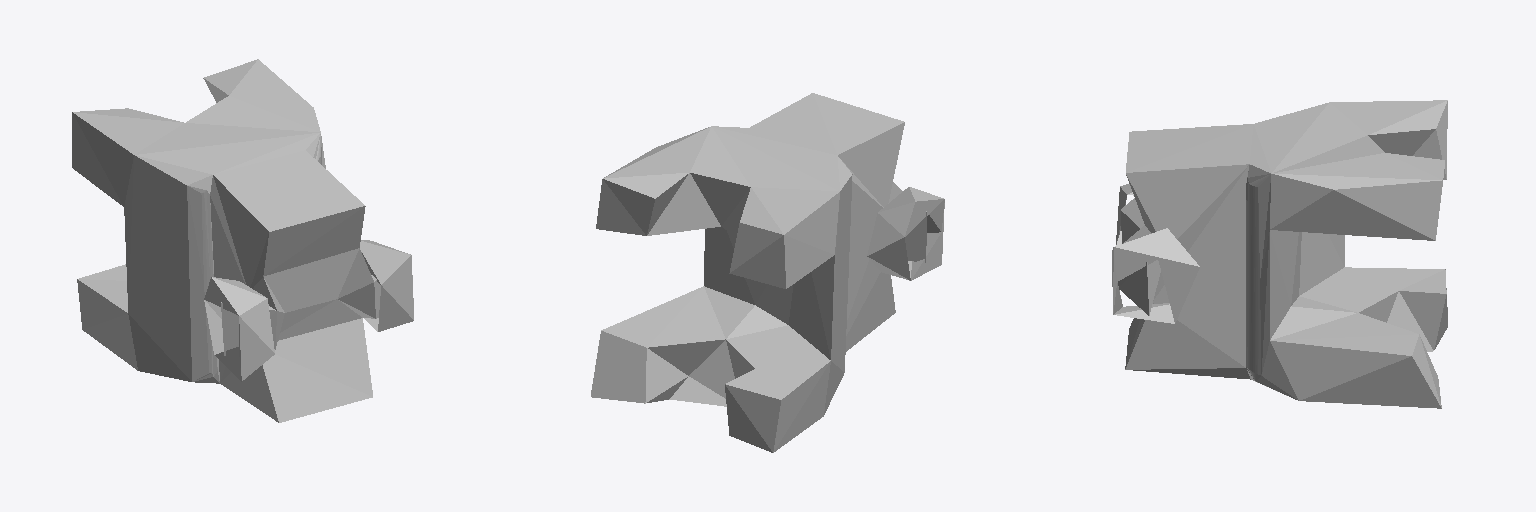
Rendered from right_collision_middle_mp_mesh_mesh.obj.
3 renders of one model, left to right at view 1: azimuth 30°, elevation 25°; view 2: azimuth 150°, elevation 25°; view 3: azimuth 270°, elevation 25°, orthographic.
Bounding box in the file's own units: 0.0175 × 0.0194 × 0.0254.